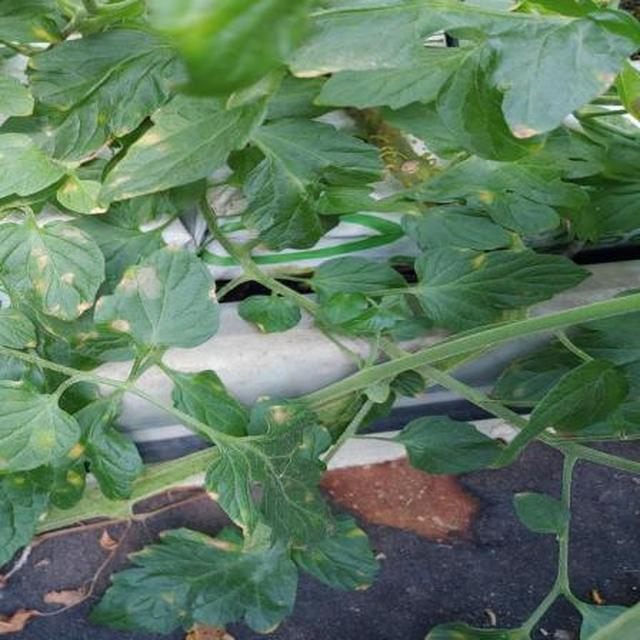Leaf Mold: (59, 142, 385, 640)
